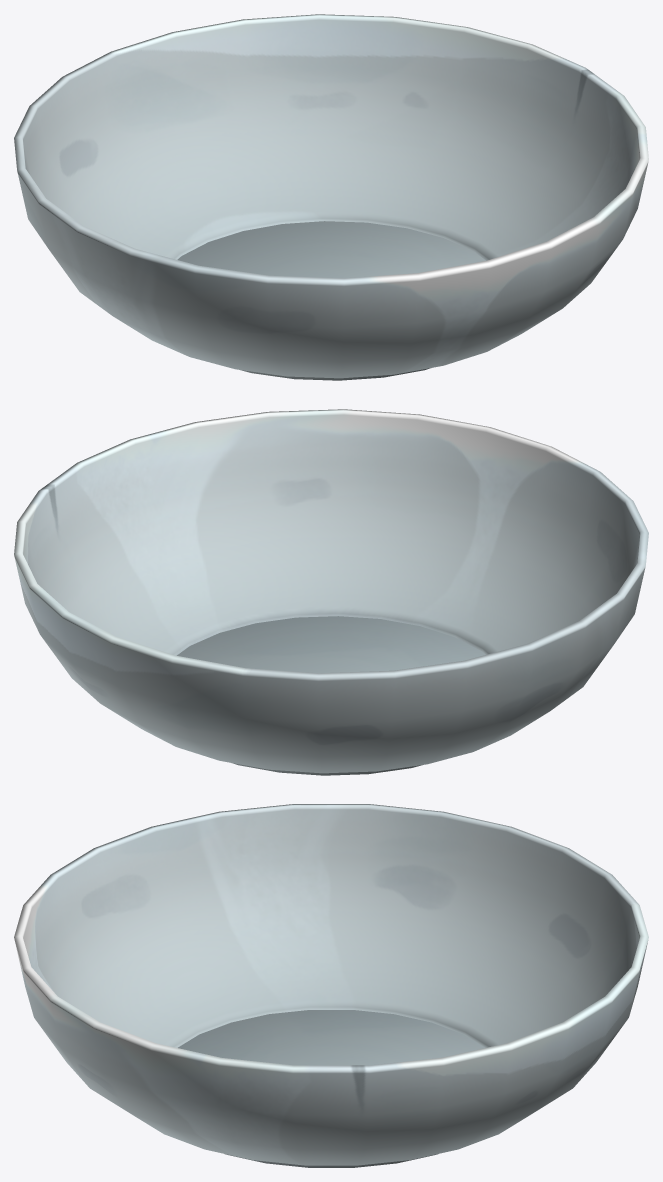
File: BowlLarge.fbx
3 views of the same model, one above another, from view 1: azimuth 30°, elevation 25°; view 2: azimuth 150°, elevation 25°; view 3: azimuth 270°, elevation 25° (orthographic).
Visible parts, largest first — view 1: BowlLarge; view 2: BowlLarge; view 3: BowlLarge.
Part boxes in pixels (left/top/right/bottom): BowlLarge: left=14, top=14, right=648, bottom=380; BowlLarge: left=14, top=409, right=648, bottom=775; BowlLarge: left=14, top=804, right=648, bottom=1167.
Size of the model in its own units: 82.38 by 22.47 by 82.98.
